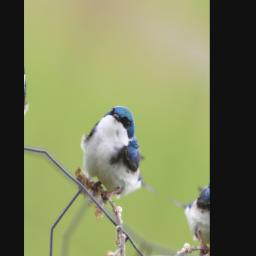Swallow: (66, 91, 179, 228)
